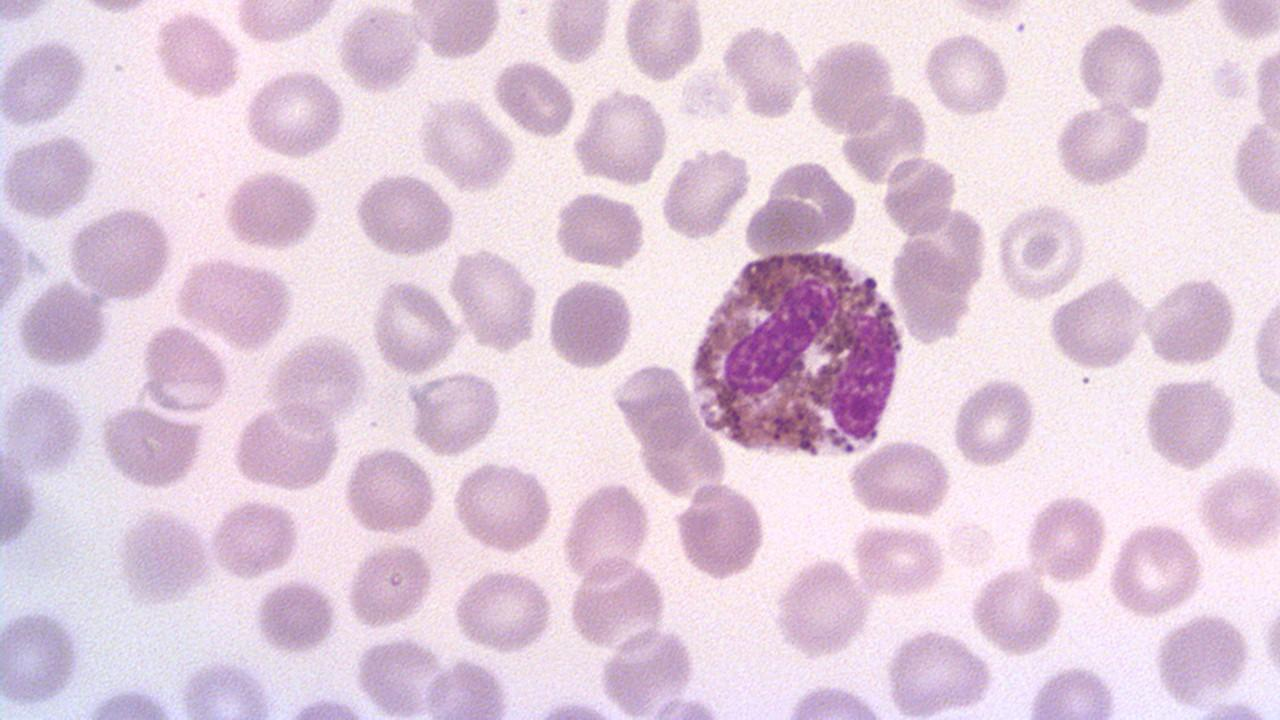RBC: (172, 257, 296, 348), (64, 204, 178, 302), (1150, 610, 1254, 712), (230, 399, 344, 491), (770, 556, 870, 660), (450, 459, 556, 556), (447, 246, 541, 355), (565, 554, 668, 653), (560, 478, 654, 586), (112, 508, 213, 608), (882, 627, 996, 715), (992, 201, 1092, 301), (571, 87, 669, 189), (1140, 372, 1238, 474), (1105, 520, 1207, 618), (674, 478, 768, 583), (1045, 274, 1145, 372), (804, 34, 898, 138), (350, 170, 457, 261), (240, 68, 347, 159), (414, 95, 516, 190), (95, 404, 204, 490), (448, 567, 558, 652), (1143, 272, 1239, 368), (341, 444, 438, 538), (544, 273, 636, 372), (368, 277, 458, 377), (1074, 19, 1168, 114), (658, 146, 754, 239), (14, 278, 111, 370), (0, 133, 101, 221), (221, 167, 324, 253), (948, 373, 1040, 468), (844, 438, 954, 517), (343, 538, 435, 632), (1051, 104, 1153, 188), (0, 35, 90, 130), (721, 22, 807, 121), (139, 325, 233, 415), (0, 607, 82, 710), (921, 29, 1013, 120), (150, 9, 243, 99), (408, 370, 506, 455), (968, 568, 1064, 654), (2, 382, 86, 480), (206, 496, 304, 580), (849, 520, 949, 599), (1023, 492, 1109, 582), (1194, 462, 1278, 554), (551, 189, 647, 269), (336, 4, 421, 94), (252, 574, 340, 656), (622, 0, 706, 82), (492, 57, 574, 139), (880, 152, 958, 237), (178, 658, 274, 720), (410, 0, 504, 62), (423, 656, 514, 719), (1025, 662, 1119, 719), (1229, 118, 1279, 220), (230, 0, 342, 45), (544, 1, 614, 65), (0, 446, 41, 550), (1249, 287, 1279, 404), (1251, 37, 1279, 146), (0, 217, 29, 318), (1210, 1, 1278, 41), (1261, 589, 1279, 690)
WBC: (680, 238, 912, 463), (2, 36, 92, 131)
